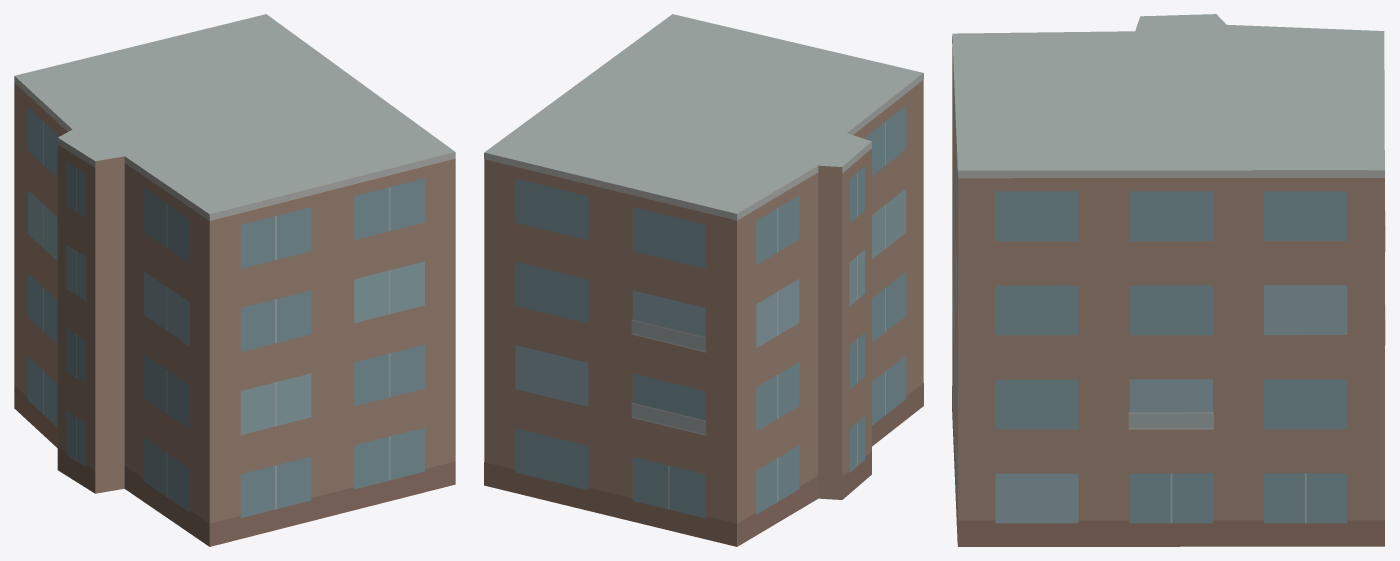
The model's file is survey-upis-32706661.glb.
3 renders of one model, left to right at view 1: azimuth 30°, elevation 25°; view 2: azimuth 150°, elevation 25°; view 3: azimuth 270°, elevation 25°, orthographic. The views are drawn at different scales.
Visible parts, largest first — view 1: survey-upis-32706661.tmp; view 2: survey-upis-32706661.tmp; view 3: survey-upis-32706661.tmp.
Boxes of the visible parts, <box> form: survey-upis-32706661.tmp: <box>14,14,455,546</box>; survey-upis-32706661.tmp: <box>484,14,923,546</box>; survey-upis-32706661.tmp: <box>952,14,1385,546</box>.
Size of the model in its own units: 10.93 by 12.2 by 12.75.
